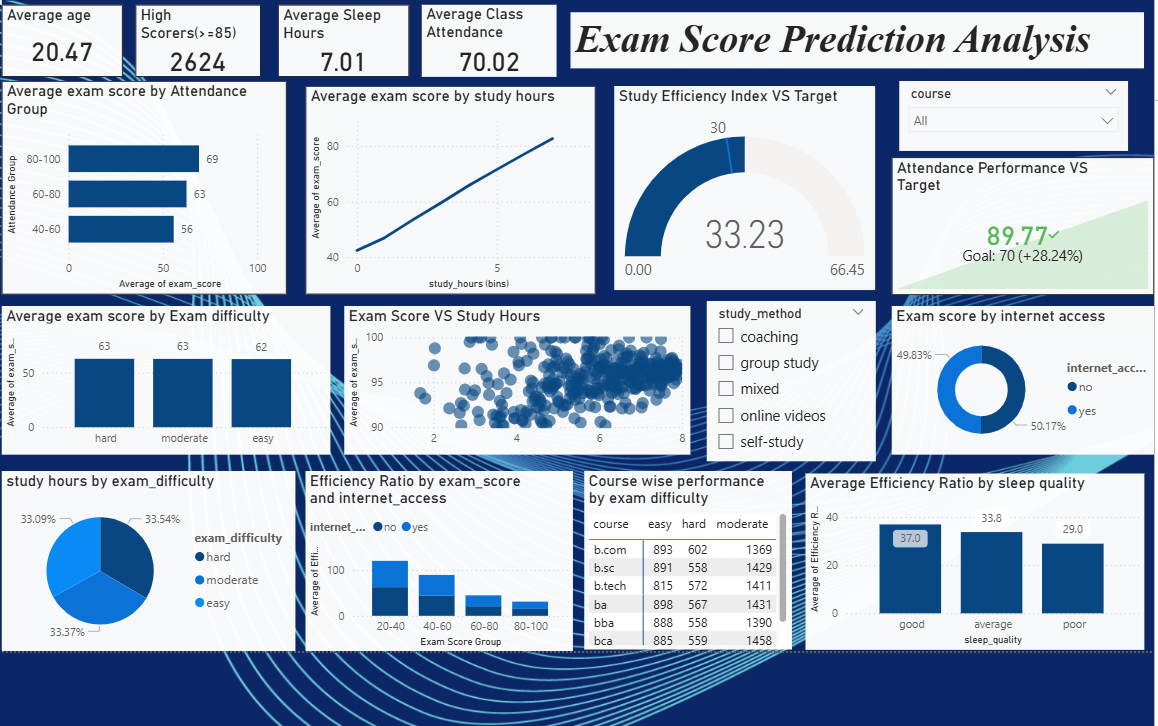

Layout of this report page (visuals, bound fields, positions):
{"tool":"powerbi","page":{"name":"Page 1","canvas":[1280,720],"ordinal":0},"visuals":[{"type":"gauge","title":"Study Efficiency Index VS  Target","fields":{"Y":["Exam_Score_Prediction.Study Efficiency Index"],"TargetValue":["Exam_Score_Prediction.Study Efficiency Target"]},"box":[687.5,98.8,286.8,223.7],"z":0},{"type":"scatterChart","title":"Exam Score VS Study Hours","fields":{"X":["Exam_Score_Prediction.study_hours"],"Y":["Avg(Exam_Score_Prediction.exam_score)"]},"box":[391.1,340.3,380.1,163.3],"z":1000},{"type":"pieChart","title":" study hours by exam_difficulty","fields":{"Category":["Exam_Score_Prediction.exam_difficulty"],"Y":["Avg(Exam_Score_Prediction.study_hours)"]},"box":[15.1,521.4,322.5,199],"z":2000},{"type":"columnChart","title":"Efficiency Ratio by exam_score and internet_access","fields":{"Y":["Avg(Exam_Score_Prediction.Efficiency Ratio)"],"Category":["Exam_Score_Prediction.Exam Score Group"],"Series":["Exam_Score_Prediction.internet_access"]},"box":[348.5,521.4,293.7,199],"z":3000},{"type":"barChart","title":"Average exam score by Attendance Group","fields":{"Y":["Avg(Exam_Score_Prediction.exam_score)"],"Category":["Exam_Score_Prediction.Attendance Group"]},"box":[15.1,93.3,312.9,234.6],"z":4000},{"type":"kpi","title":" Attendance Performance VS Target","fields":{"Indicator":["Exam_Score_Prediction.Average Attendance %"],"Goal":["Exam_Score_Prediction.Attendance Target"],"TrendLine":["Exam_Score_Prediction.Attendance Group"]},"box":[992.1,177,288.2,150.9],"z":5000},{"type":"lineChart","title":"Average exam score by study hours","fields":{"Y":["Avg(Exam_Score_Prediction.exam_score)"],"Category":["Exam_Score_Prediction.study_hours (bins)"]},"box":[348.5,98.8,318.4,229.2],"z":6000},{"type":"pivotTable","title":"Course wise performance by exam difficulty","fields":{"Rows":["Exam_Score_Prediction.course"],"Columns":["Exam_Score_Prediction.exam_difficulty"],"Values":["CountNonNull(Exam_Score_Prediction.student_id)"]},"box":[654.5,521.4,227.8,196.2],"z":7000},{"type":"clusteredColumnChart","title":"Average exam score by Exam difficulty","fields":{"Category":["Exam_Score_Prediction.exam_difficulty"],"Y":["Avg(Exam_Score_Prediction.exam_score)"]},"box":[15.1,340.3,360.9,163.3],"z":8000},{"type":"card","title":"Average age","fields":{"Values":["Avg(Exam_Score_Prediction.age)"]},"box":[15.1,9.6,133.1,79.6],"z":9000},{"type":"lineStackedColumnComboChart","title":"Average Efficiency Ratio by sleep quality","fields":{"Category":["Exam_Score_Prediction.sleep_quality"],"Y":["Avg(Exam_Score_Prediction.Efficiency Ratio)"]},"box":[897.4,524.2,371.9,193.5],"z":10000},{"type":"card","title":"Average Class Attendance","fields":{"Values":["Avg(Exam_Score_Prediction.class_attendance)"]},"box":[476.2,9.6,148.2,79.6],"z":11000},{"type":"donutChart","title":"Exam score by internet access","fields":{"Category":["Exam_Score_Prediction.internet_access"],"Y":["Avg(Exam_Score_Prediction.exam_score)"]},"box":[992.1,340.3,288.2,163.3],"z":12000},{"type":"card","title":"High Scorers(>=85)","fields":{"Values":["Exam_Score_Prediction.High Scorers Count"]},"box":[161.9,9.6,137.2,79.6],"z":13000},{"type":"card","title":"Average Sleep Hours","fields":{"Values":["Avg(Exam_Score_Prediction.sleep_hours)"]},"box":[318.4,9.6,144.1,79.6],"z":14000},{"type":"textbox","box":[639.5,17.8,629.8,61.7],"z":15000},{"type":"slicer","fields":{"Values":["Exam_Score_Prediction.study_method"]},"box":[789,334.8,185.2,175.6],"z":16000},{"type":"slicer","fields":{"Values":["Exam_Score_Prediction.course"]},"box":[1000.3,93.3,251.1,76.8],"z":17000},{"type":"actionButton","box":[0,0,15.1,9.6],"z":18000}]}

Visuals, with their boxes in screenshot pixels (x1, y1, x2, y2):
"Study Efficiency Index VS  Target" gauge: region(618, 79, 883, 286)
"Exam Score VS Study Hours" scatterChart: region(344, 303, 695, 454)
" study hours by exam_difficulty" pieChart: region(0, 470, 294, 654)
"Efficiency Ratio by exam_score and internet_access" columnChart: region(304, 470, 576, 654)
"Average exam score by Attendance Group" barChart: region(0, 74, 285, 291)
" Attendance Performance VS Target" kpi: region(900, 152, 1157, 291)
"Average exam score by study hours" lineChart: region(304, 79, 599, 291)
"Course wise performance by exam difficulty" pivotTable: region(587, 470, 798, 652)
"Average exam score by Exam difficulty" clusteredColumnChart: region(0, 303, 330, 454)
"Average age" card: region(0, 0, 119, 70)
"Average Efficiency Ratio by sleep quality" lineStackedColumnComboChart: region(812, 473, 1156, 652)
"Average Class Attendance" card: region(422, 0, 559, 70)
"Exam score by internet access" donutChart: region(900, 303, 1157, 454)
"High Scorers(>=85)" card: region(132, 0, 259, 70)
"Average Sleep Hours" card: region(276, 0, 410, 70)
textbox: region(573, 4, 1156, 61)
slicer - Exam_Score_Prediction.study_method: region(712, 298, 883, 460)
slicer - Exam_Score_Prediction.course: region(907, 74, 1139, 145)
